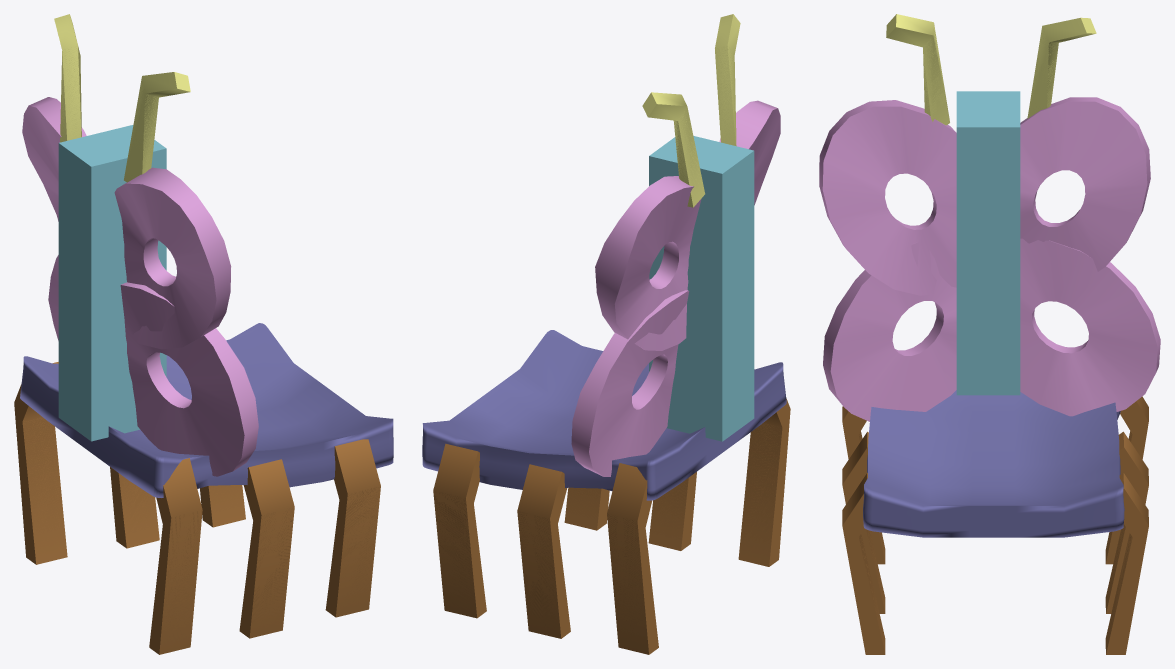
The model's file is breadandbutterchair.fbx.
3 views of the same model, side by side, from view 1: azimuth 30°, elevation 25°; view 2: azimuth 150°, elevation 25°; view 3: azimuth 270°, elevation 25° (orthographic). The views are drawn at different scales.
Visible parts, largest first — view 1: pCube2, pCube1, pPipe7, pPipe8, pCube6, pCube3, pCube5, pCube9, pCube10, pPipe5, pCube8, pCube11 (+2 smaller); view 2: pCube1, pCube2, pPipe5, pPipe6, pCube9, pCube8, pCube7, pCube3, pCube11, pCube6, pPipe8, pCube10 (+1 smaller); view 3: pCube1, pCube2, pPipe8, pPipe6, pPipe5, pPipe7, pCube7, pCube5, pCube10, pCube11, pCube8, pCube6 (+2 smaller).
Boxes of the visible parts, <box> form: pCube2: <box>58,125,166,441</box>; pCube1: <box>20,323,393,497</box>; pPipe7: <box>120,282,258,476</box>; pPipe8: <box>114,167,231,349</box>; pCube6: <box>239,459,294,638</box>; pCube3: <box>149,458,202,654</box>; pCube5: <box>325,439,380,617</box>; pCube9: <box>14,362,67,564</box>; pCube10: <box>124,72,190,182</box>; pPipe5: <box>22,97,86,221</box>; pCube8: <box>110,467,159,548</box>; pCube11: <box>54,14,81,142</box>; pCube1: <box>422,330,786,500</box>; pCube2: <box>649,136,754,441</box>; pPipe5: <box>595,176,701,350</box>; pPipe6: <box>571,290,689,476</box>; pCube9: <box>607,463,658,654</box>; pCube8: <box>517,464,570,638</box>; pCube7: <box>433,443,486,618</box>; pCube3: <box>738,398,790,566</box>; pCube11: <box>642,92,705,207</box>; pCube6: <box>648,472,696,550</box>; pPipe8: <box>719,100,780,205</box>; pCube10: <box>715,14,740,146</box>; pCube1: <box>863,390,1124,537</box>; pCube2: <box>956,91,1020,395</box>; pPipe8: <box>819,100,956,295</box>; pPipe6: <box>1020,238,1160,416</box>; pPipe5: <box>1020,97,1150,271</box>; pPipe7: <box>823,242,956,421</box>; pCube7: <box>1105,472,1148,654</box>; pCube5: <box>842,473,885,654</box>; pCube10: <box>886,14,949,125</box>; pCube11: <box>1027,17,1096,118</box>; pCube8: <box>1105,431,1148,613</box>; pCube6: <box>842,431,885,613</box>.
Size of the model in its own units: 6.74 by 14.25 by 7.94.
